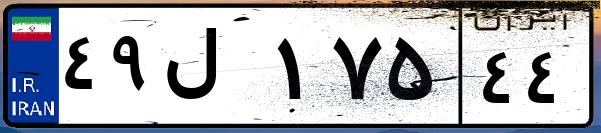1: (270, 28, 330, 110)
4: (57, 26, 110, 100), (475, 38, 525, 113), (525, 38, 570, 115)
5: (385, 28, 445, 110)
7: (330, 28, 385, 110)
9: (110, 28, 158, 98)
ل: (158, 20, 270, 120)
